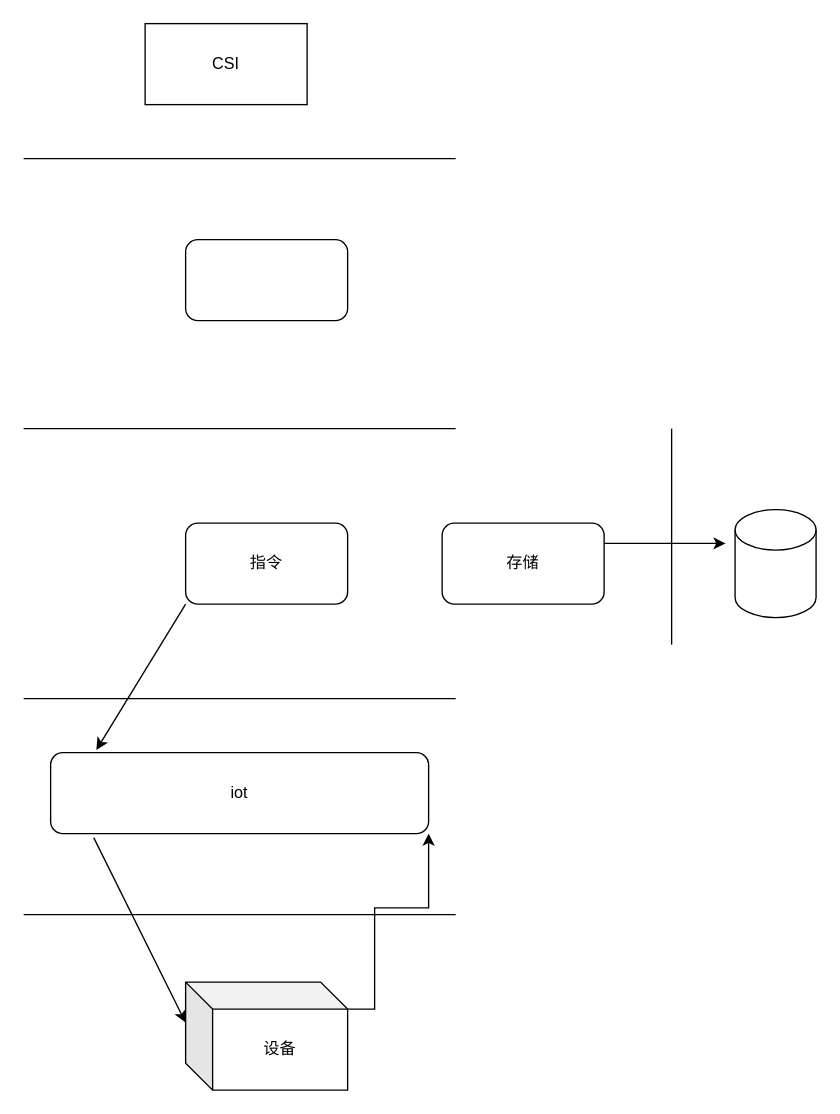
Image size: 840x1114. Some labels were removed from this diagram. Here are the shapes that lost their labels. From the top down, the box of each, then its label:
(184, 238, 348, 321): 录锁提
(734, 508, 816, 618): gift
